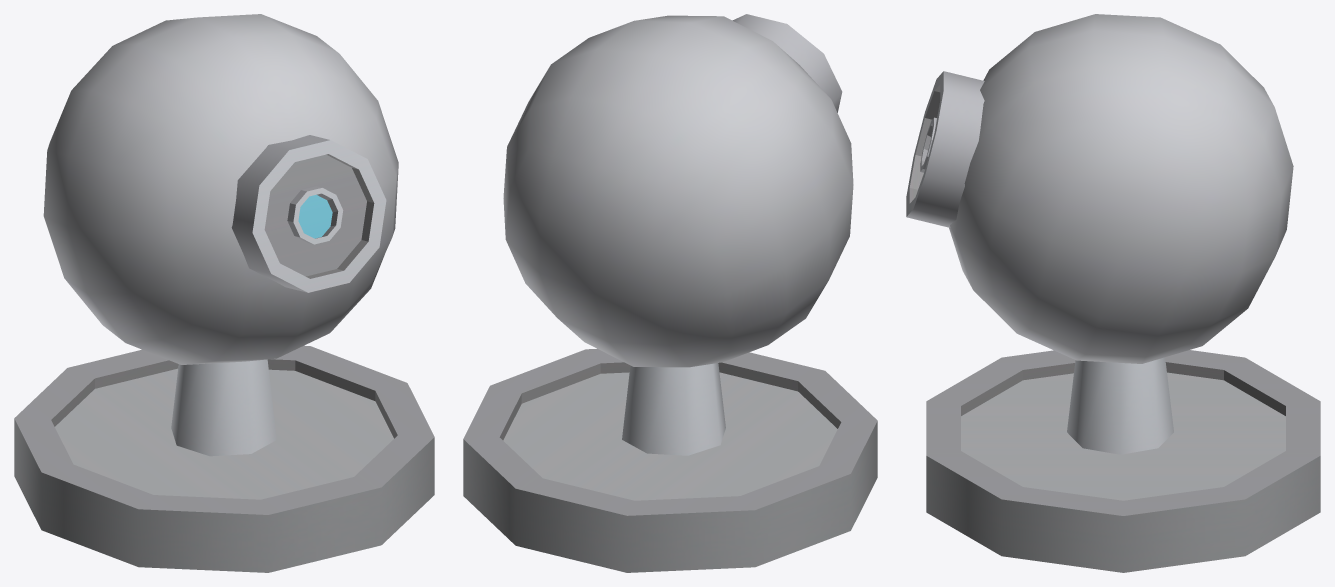
Rendered from SM_WebCam.fbx.
The picture shows the model from 3 angles, left to right: view 1: azimuth 30°, elevation 25°; view 2: azimuth 150°, elevation 25°; view 3: azimuth 270°, elevation 25°; orthographic projection.
Visible parts, largest first — view 1: SM_WebCam; view 2: SM_WebCam; view 3: SM_WebCam.
Part boxes in pixels (left/top/right/bottom): SM_WebCam: left=14, top=14, right=434, bottom=572; SM_WebCam: left=463, top=14, right=877, bottom=572; SM_WebCam: left=906, top=14, right=1320, bottom=572.
Size of the model in its own units: 20.01 by 24.06 by 19.99.
